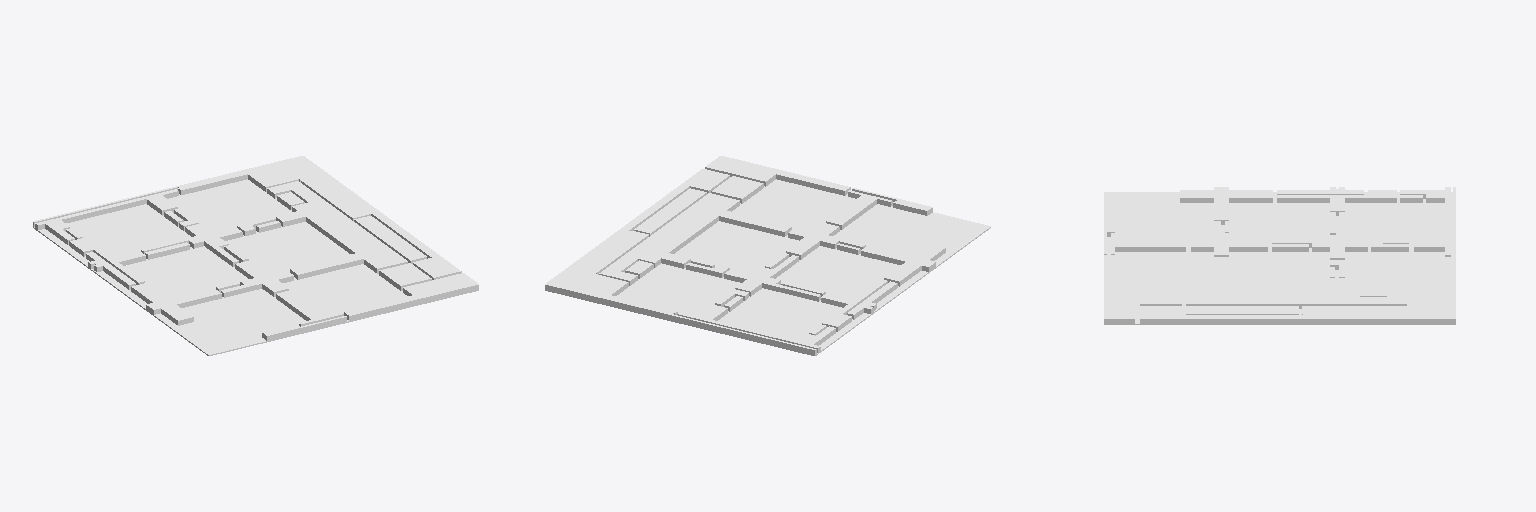
The model's file is GameMenu-1-GameMenu_03.obj.
3 views of the same model, side by side, from view 1: azimuth 30°, elevation 25°; view 2: azimuth 150°, elevation 25°; view 3: azimuth 270°, elevation 25° (orthographic).
Parts seen in each view (by area): view 1: GameMenu_03; view 2: GameMenu_03; view 3: GameMenu_03.
Part boxes in pixels (x1,y1,x2,y2): GameMenu_03: (33,156,478,355); GameMenu_03: (545,156,990,355); GameMenu_03: (1104,187,1455,324).
Bounding box in the file's own units: 22.7 × 0.5 × 25.6.